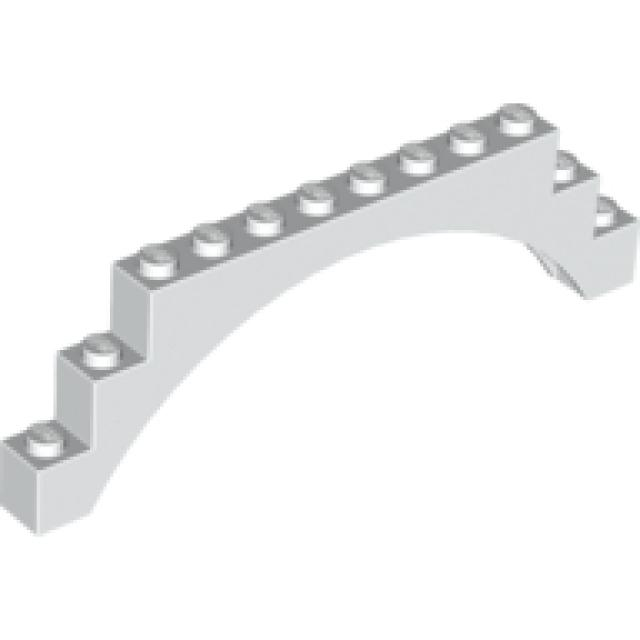White_Large: (2, 99, 636, 533)
